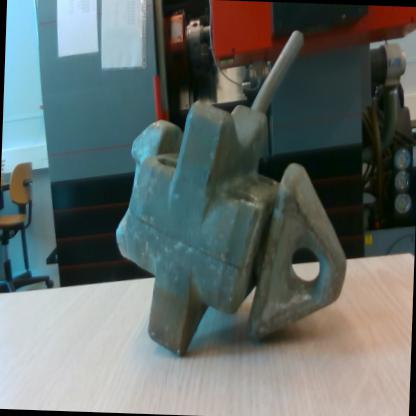Twistlock: (106, 19, 368, 374)
